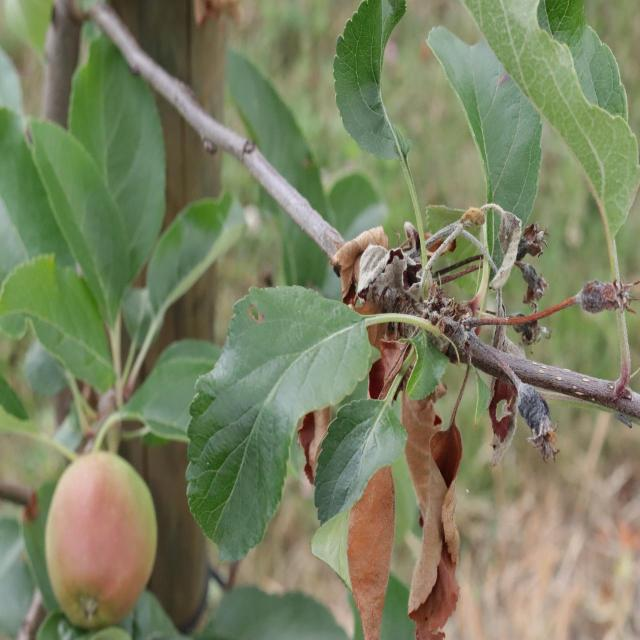-FireBlight-: (292, 217, 544, 640)
